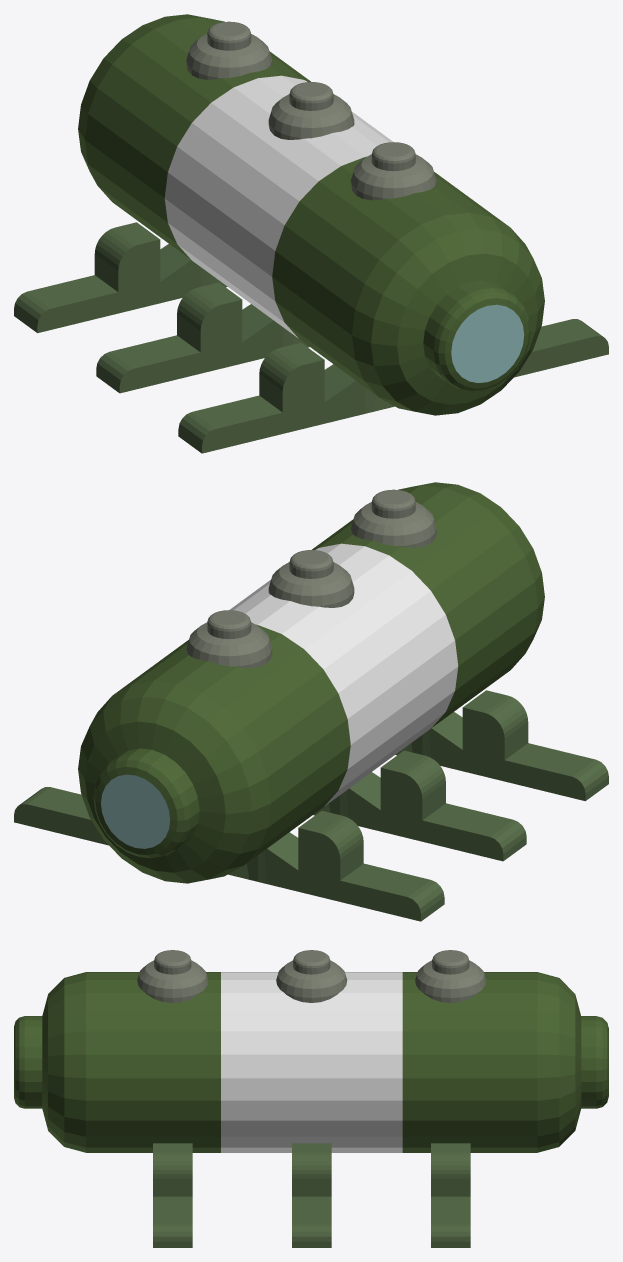
The model's file is Industrial_Distillery_Keg_01.fbx.
3 views of the same model, one above another, from view 1: azimuth 30°, elevation 25°; view 2: azimuth 150°, elevation 25°; view 3: azimuth 270°, elevation 25° (orthographic). The views are drawn at different scales.
Visible parts, largest first — view 1: Distilling_Keg, Base3, Base2, Base1; view 2: Distilling_Keg, Base2, Base3, Base1; view 3: Distilling_Keg, Base2, Base1, Base3.
Part boxes in pixels (x1,y1,x2,y2): Distilling_Keg: (78, 14, 544, 415); Base3: (178, 319, 608, 453); Base2: (14, 222, 227, 333); Base1: (96, 282, 309, 393); Distilling_Keg: (78, 482, 544, 883); Base2: (14, 787, 444, 921); Base3: (395, 690, 608, 801); Base1: (313, 750, 526, 861); Distilling_Keg: (14, 950, 608, 1152); Base2: (431, 1143, 470, 1247); Base1: (292, 1143, 331, 1247); Base3: (153, 1143, 192, 1247).
Size of the model in its own units: 2000 by 1154 by 2997.
